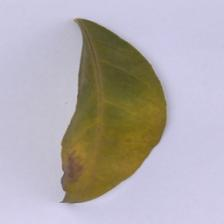greening: (62, 48, 174, 146)
